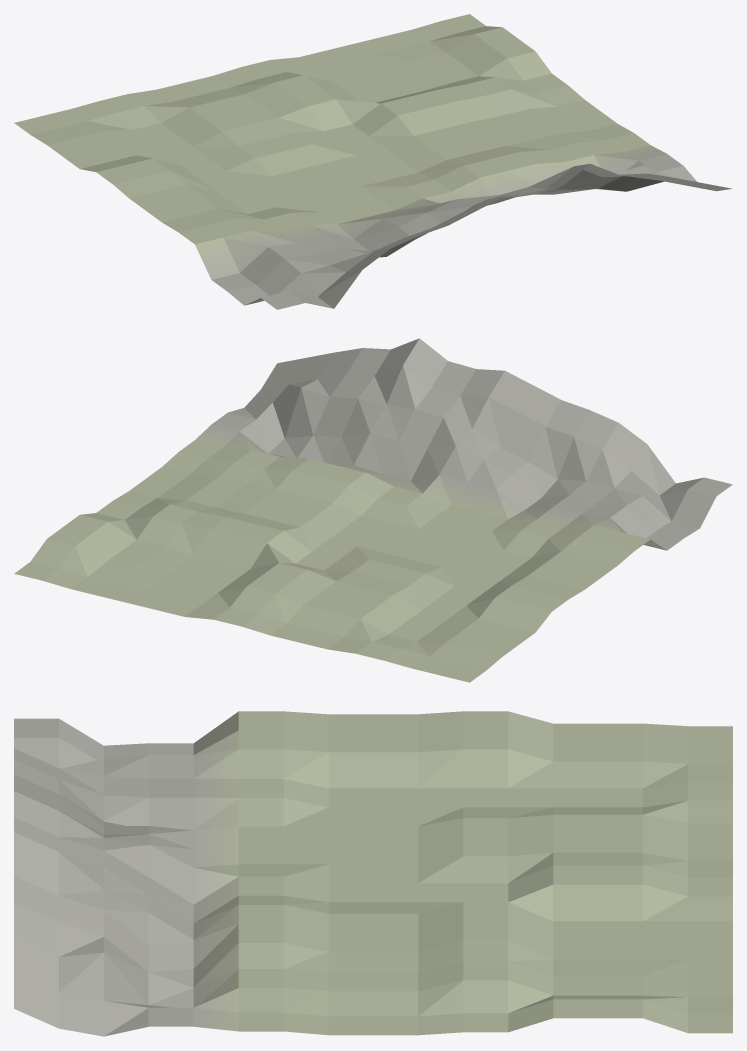
3 views of the same model, one above another, from view 1: azimuth 30°, elevation 25°; view 2: azimuth 150°, elevation 25°; view 3: azimuth 270°, elevation 25° (orthographic). The views are drawn at different scales.
Bounding box in the file's own units: 32 × 6.01 × 32.
